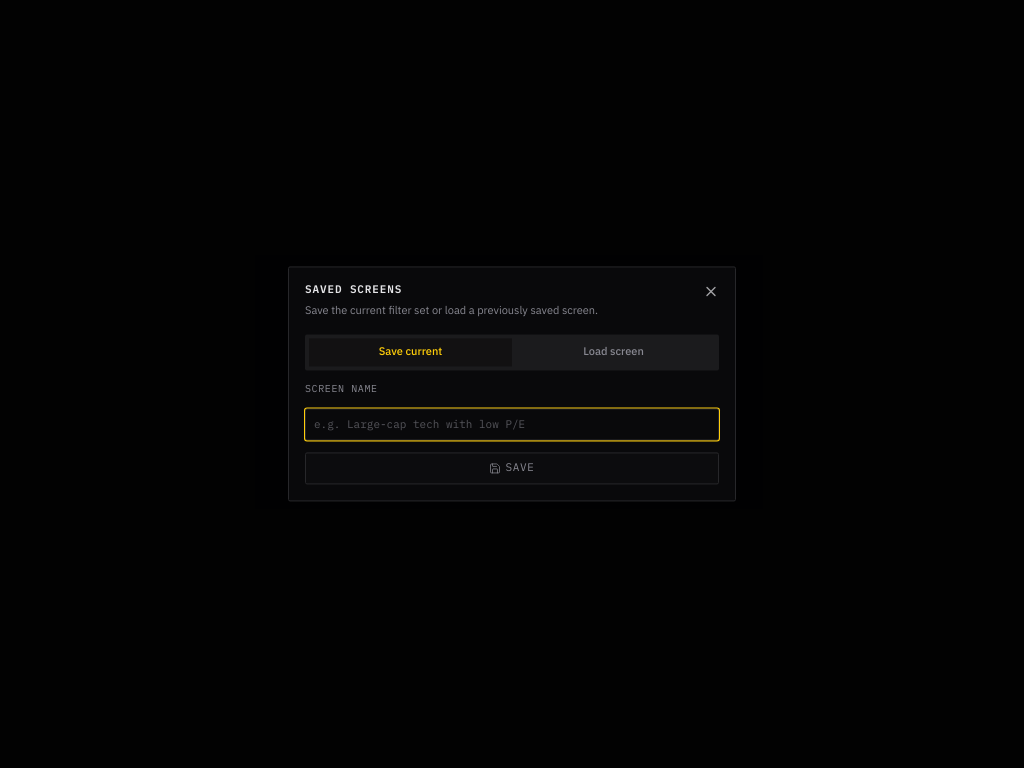
it: SavedScreensDialog — Load tab › shows the empty-state message when no screens are saved
This screenshot has width=1024, height=768.
Click the tab "Load screen" at (614, 353), box x1=512 y1=339 x2=715 y2=366
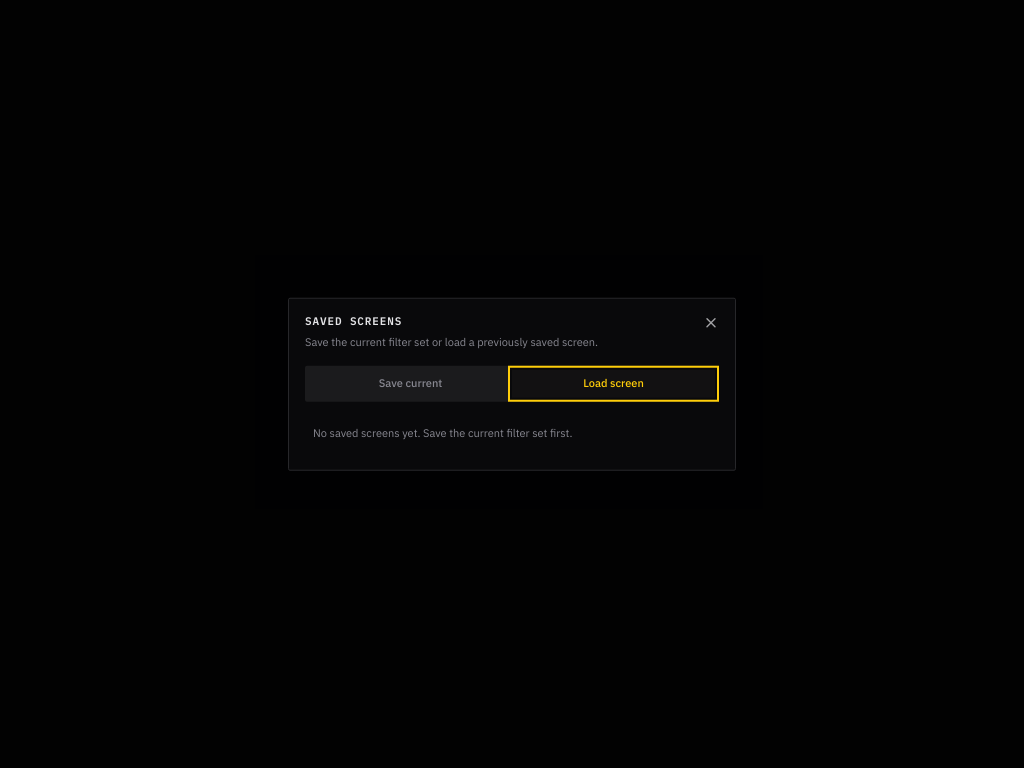
Expected: the text "No saved screens yet. Save the current filter set first." is shown, x1=313 y1=426 x2=572 y2=440
